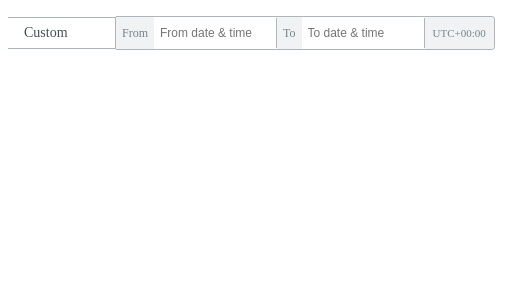
TimeRangeSelector › renders the compact preset select and the timezone badge
Expected: the field named "From date and time" is shown, [154,18,288,48]
Expected: the field named "To date and time" is shown, [302,18,436,48]
Click the list with test id "time-range-preset-select" at (62,33), box [8,17,116,49]
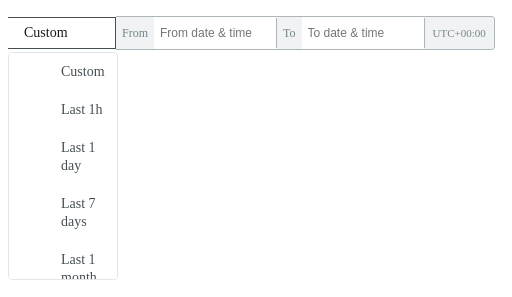
Expected: the option "Last 1h" is shown, [61,102,103,117]
Expected: the option "Last 1 day" is shown, [61,140,96,173]
Expected: the option "Last 7 days" is shown, [61,196,96,229]
